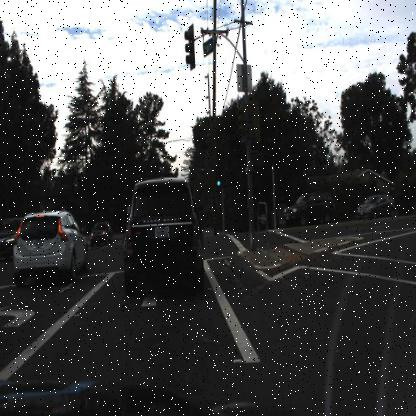car: (119, 176, 207, 298), (12, 212, 88, 287), (282, 190, 336, 226), (356, 192, 396, 220), (89, 219, 114, 247)
trafficLight-Green: (214, 164, 224, 189)
